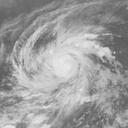cyclone: (2, 4, 124, 127)
